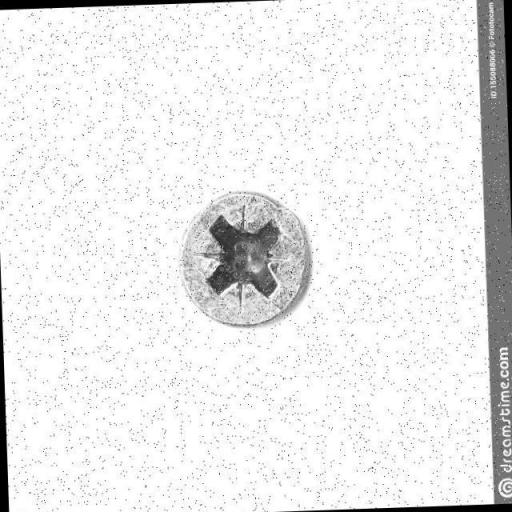Pozidriv: (175, 176, 310, 332)
